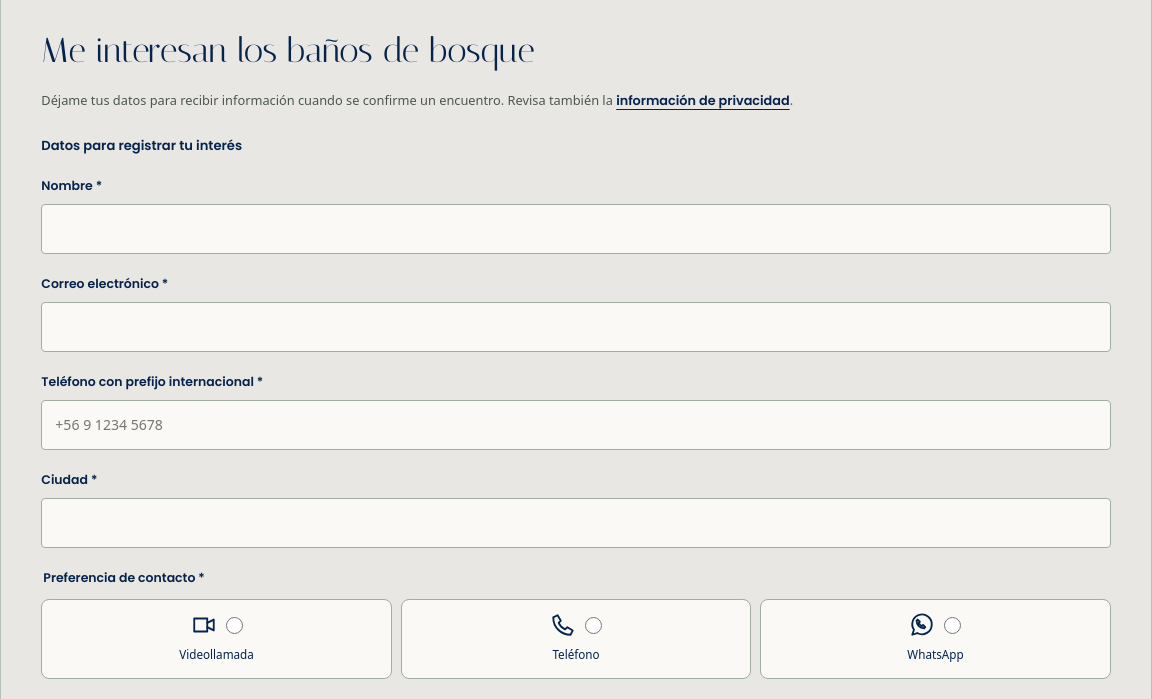
Test: InterestForm › evita envíos simultáneos y diferencia límites de frecuencia
Step 1. Type "Ana" into the field labelled "Nombre *" → (576, 229), box top-left (41, 204), bottom-right (1111, 254)
Step 2. Type "ana@example.com" into the field labelled "Correo electrónico *" → (576, 327), box top-left (41, 302), bottom-right (1111, 352)
Step 3. Type "+56912345678" into the field labelled "Teléfono con prefijo internacional *" → (576, 425), box top-left (41, 400), bottom-right (1111, 450)
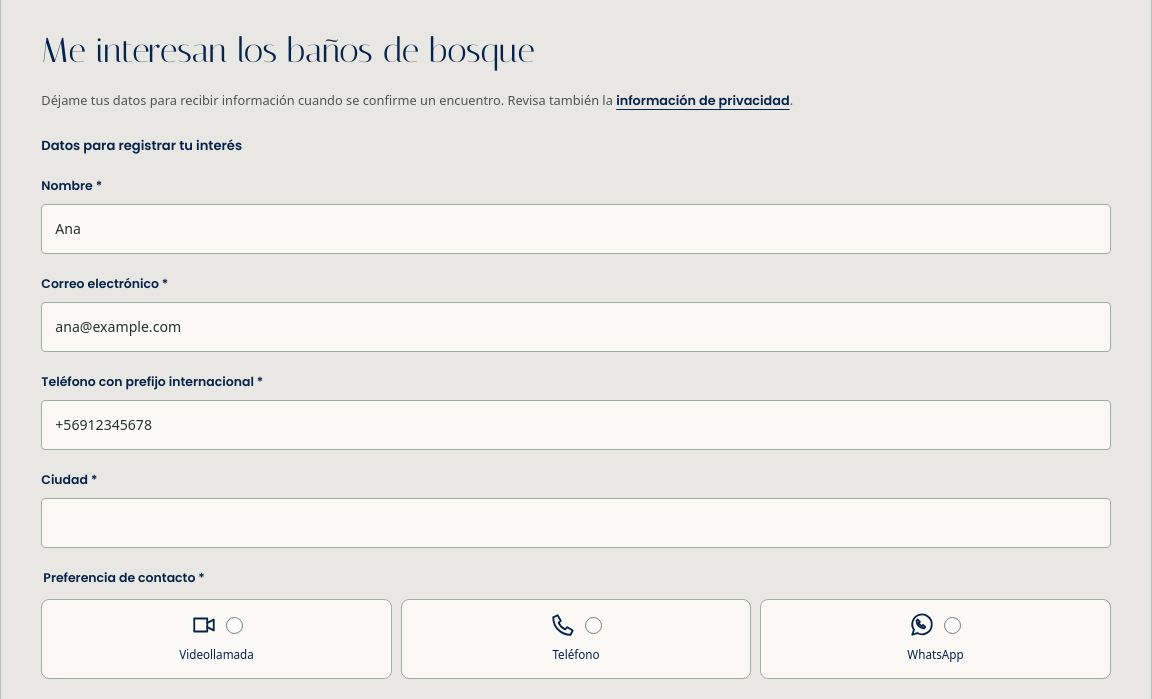
Step 4. Click the radio button labelled "WhatsApp" → (953, 625), box top-left (944, 617), bottom-right (962, 634)
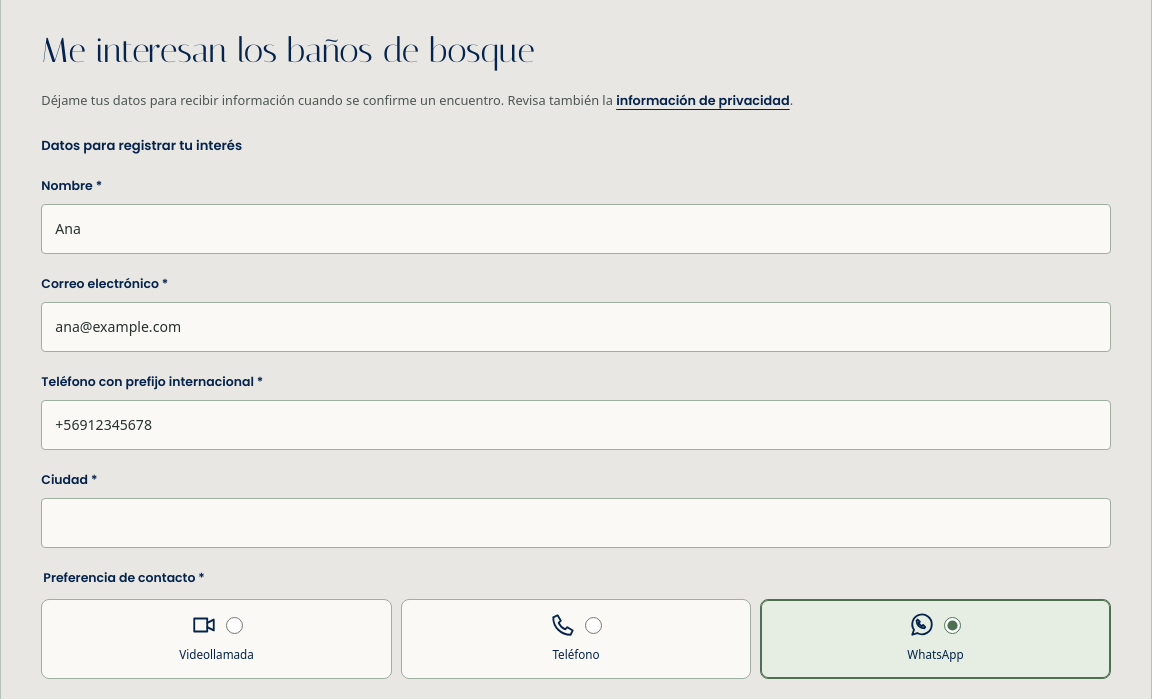
Step 5. Type "Chile" into the field labelled "Ciudad *" → (576, 523), box top-left (41, 498), bottom-right (1111, 548)
(page scrolled)
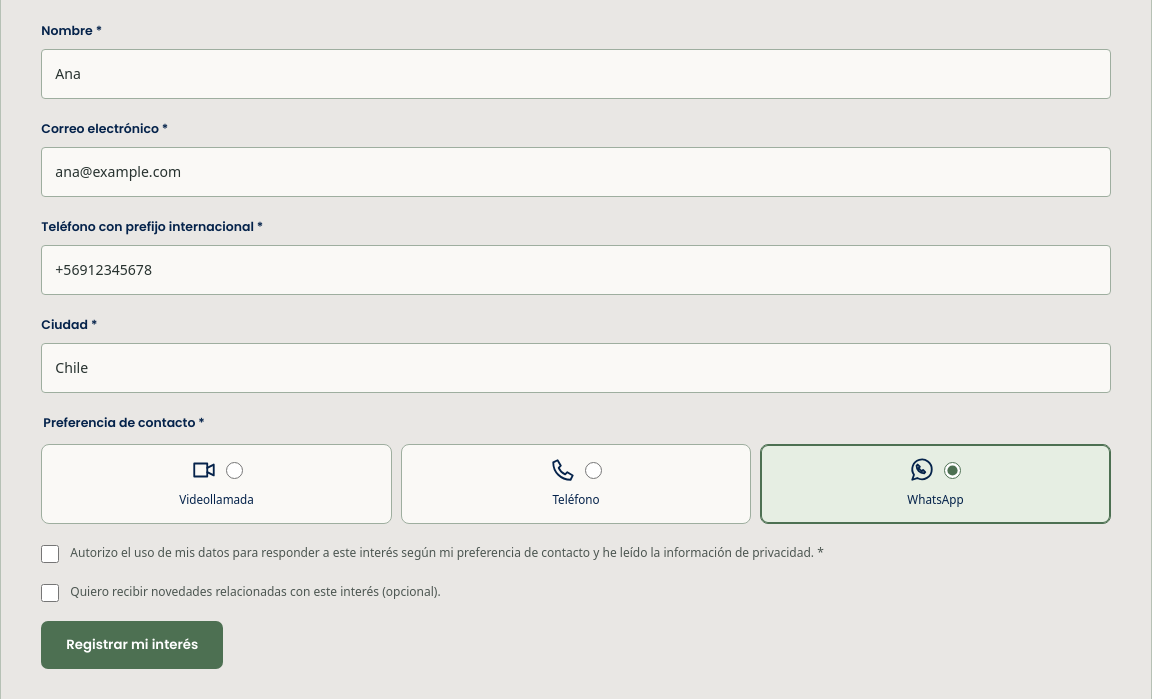
Step 6. Click the checkbox labelled "Autorizo el uso" → (50, 554), box top-left (41, 545), bottom-right (59, 563)
(page scrolled)
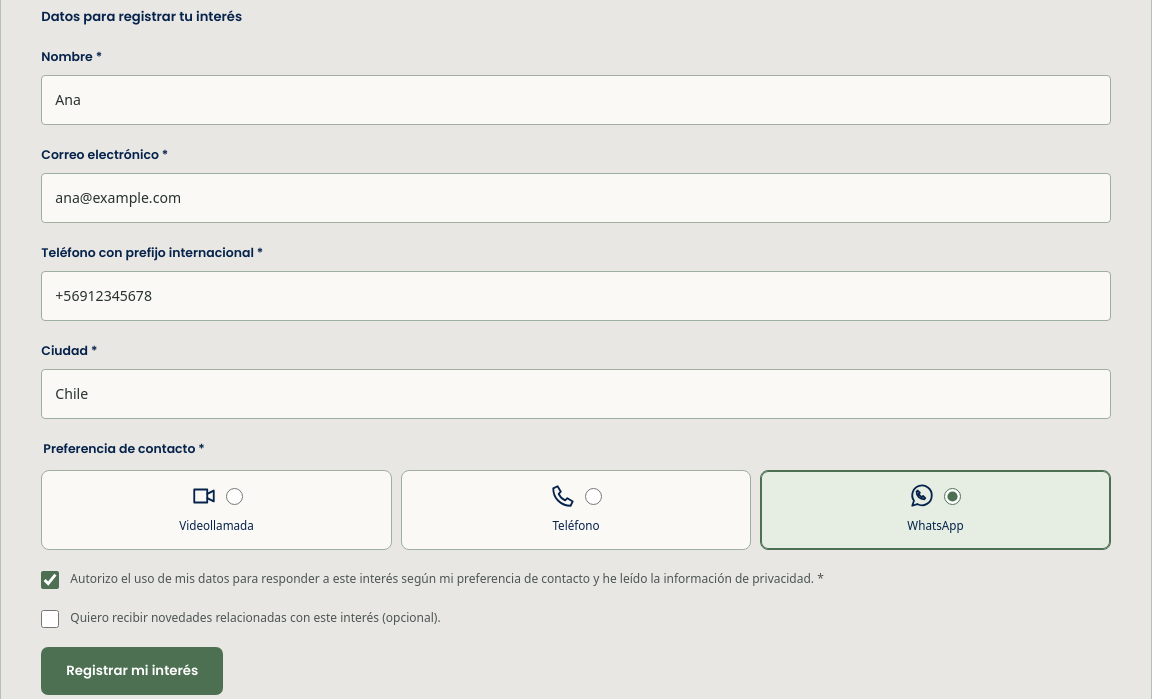
Step 7. Submit the form named "Registrar mi interés"
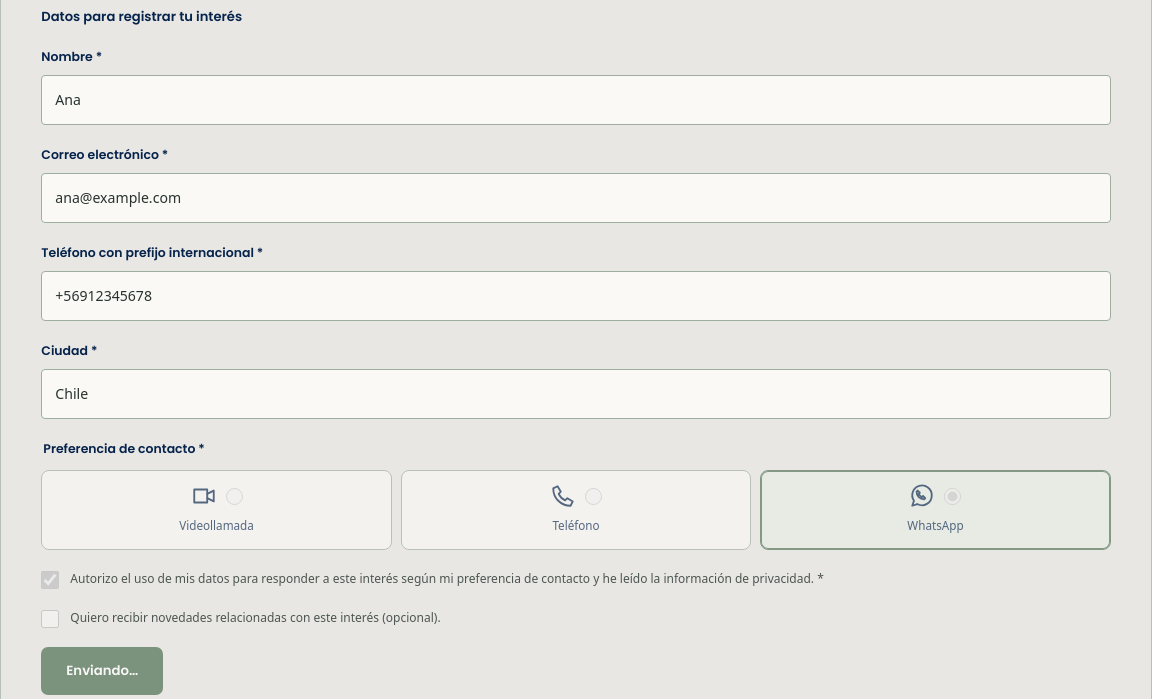
Step 8. Submit the form named "Registrar mi interés"
Wait 800 ms
(page scrolled)
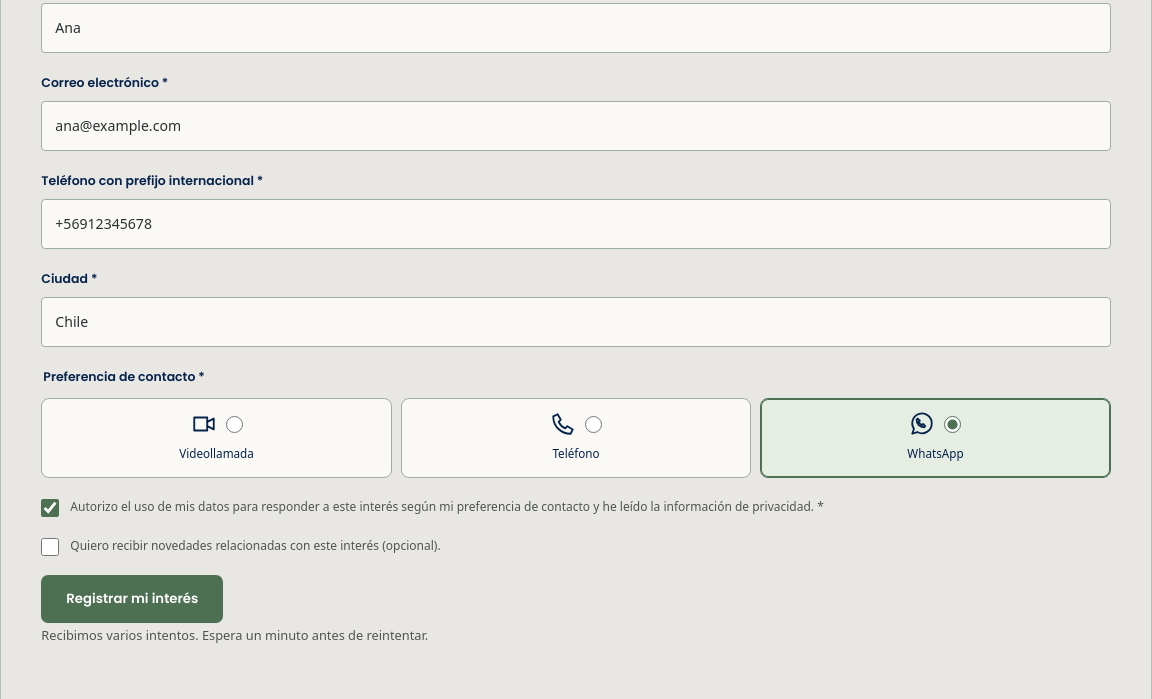
Expected: the message shows "Espera un minuto", top-left (41, 626), bottom-right (428, 644)
